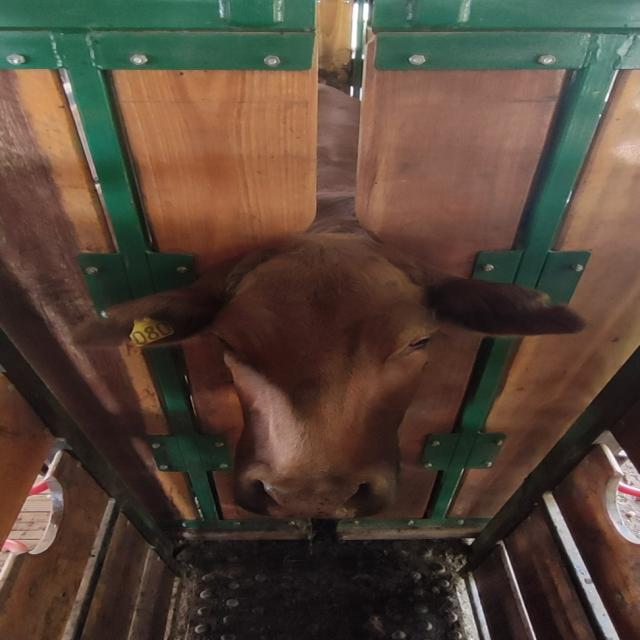cowFace: (205, 238, 436, 522)
